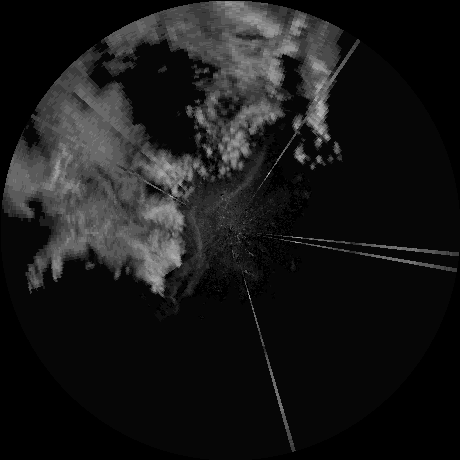frontgust: (208, 143, 266, 212), (170, 207, 207, 301)
